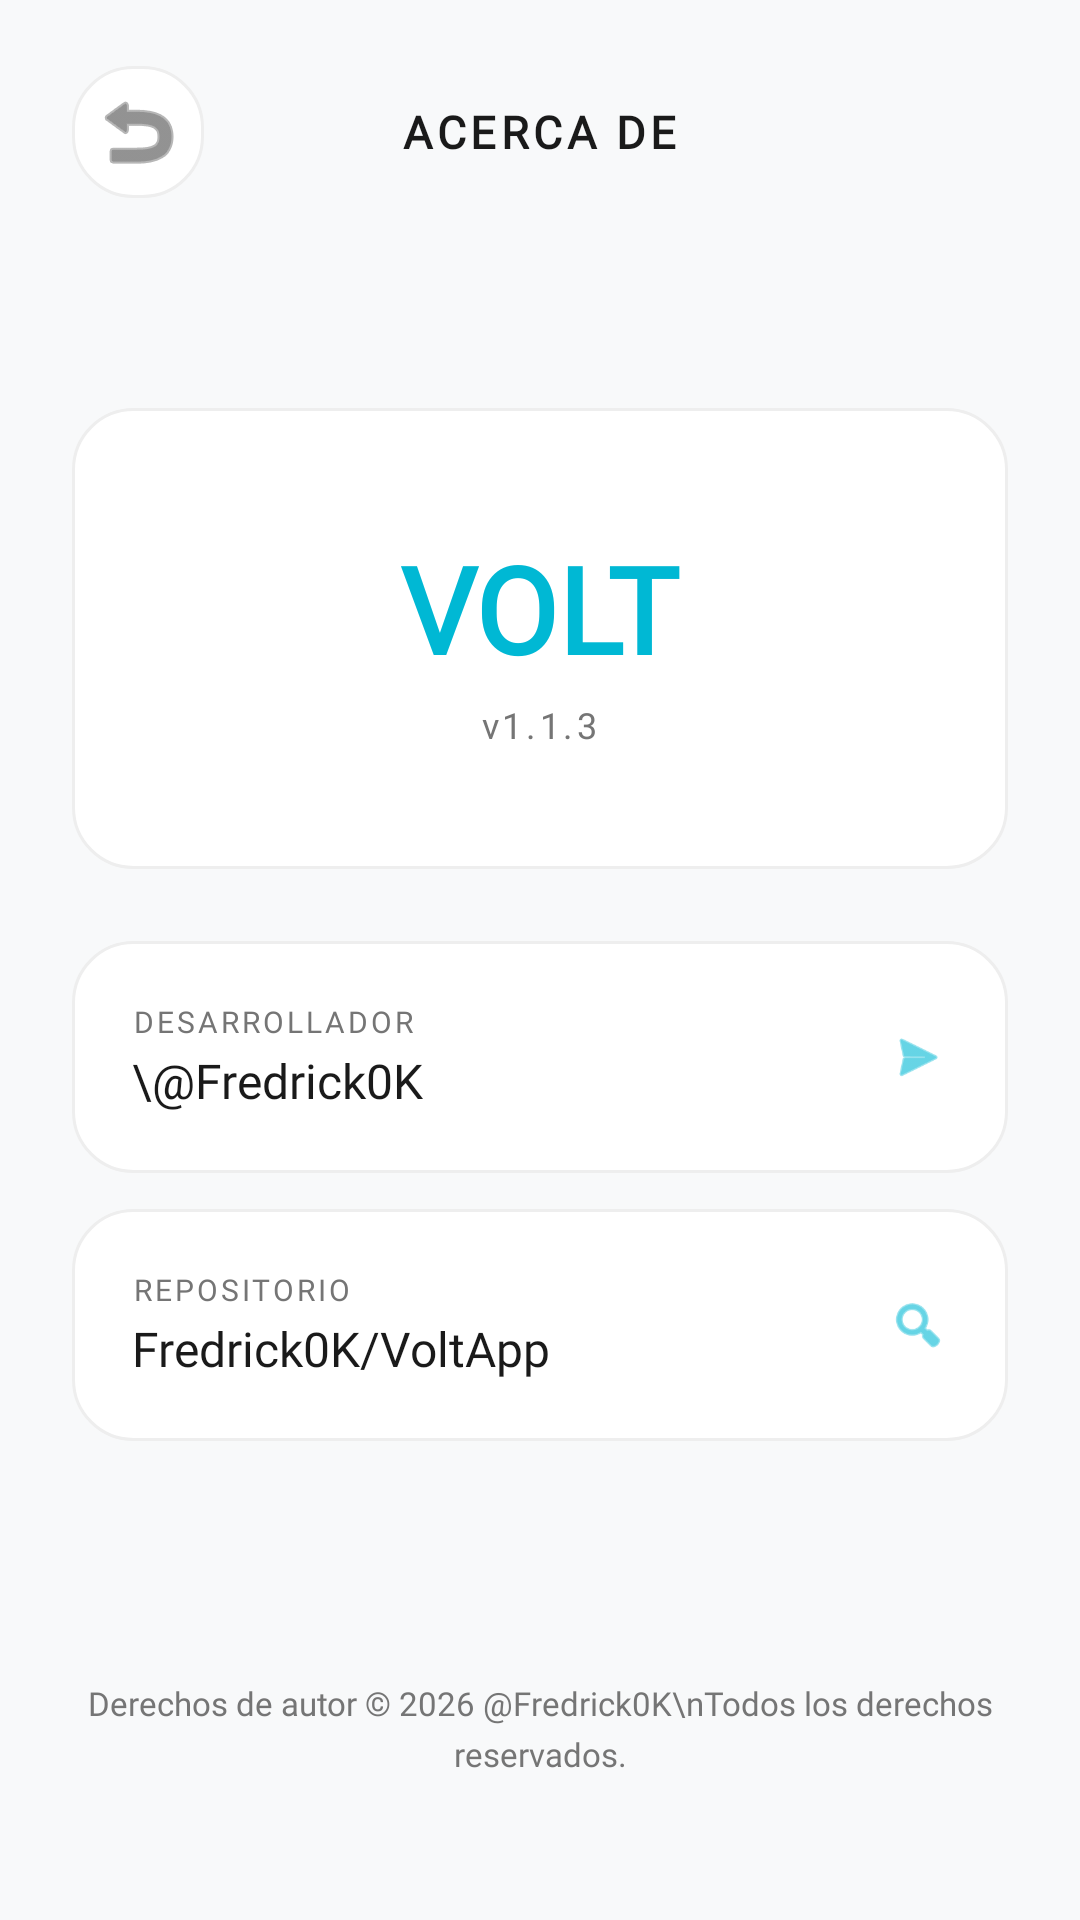

Named icons in this screenshot (1080px×1920px) and their centers, point (x, y):
search: point (918, 1325)
send: point (918, 1057)
Volver: point (139, 133)
